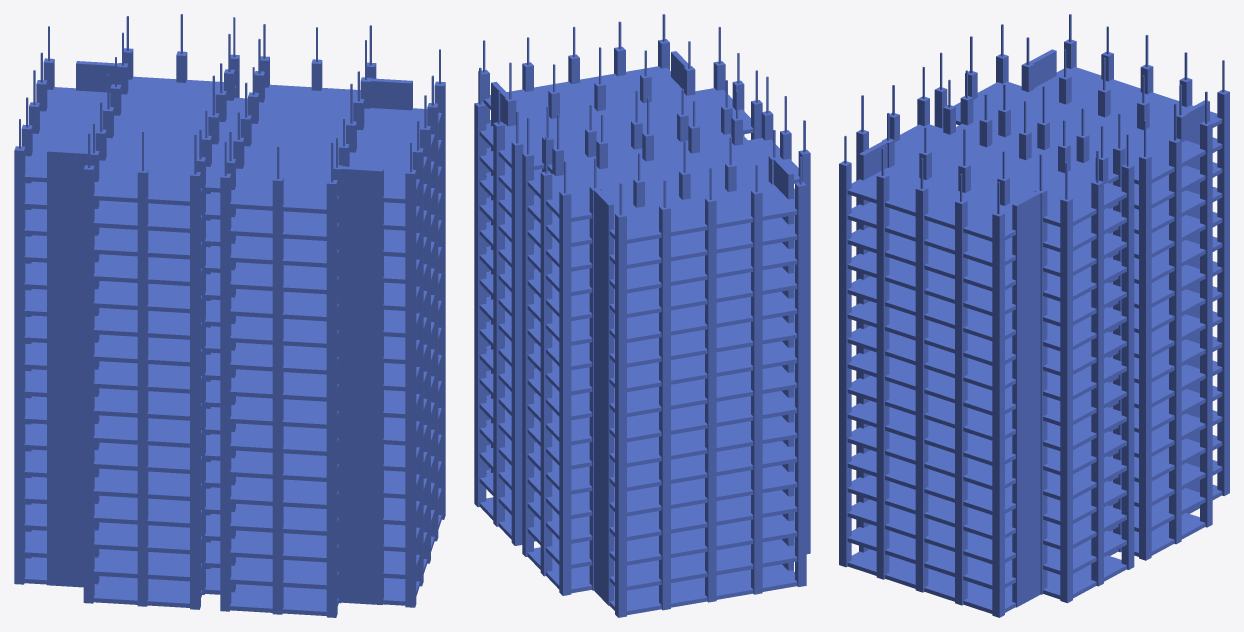
The model's file is syr.fbx.
3 renders of one model, left to right at view 1: azimuth 30°, elevation 25°; view 2: azimuth 150°, elevation 25°; view 3: azimuth 270°, elevation 25°, orthographic. The views are drawn at different scales.
Visible parts, largest first — view 1: syrplant, 建筑工地1钢筋; view 2: syrplant, 建筑工地1钢筋; view 3: syrplant, 建筑工地1钢筋.
Part boxes in pixels (x1,y1,x2,y2): syrplant: (14,48,445,617); 建筑工地1钢筋: (19,14,440,182); syrplant: (474,39,810,617); 建筑工地1钢筋: (479,14,805,215); syrplant: (839,39,1229,617); 建筑工地1钢筋: (844,14,1224,214).
Bounding box in the file's own units: 538 × 618 × 500.
